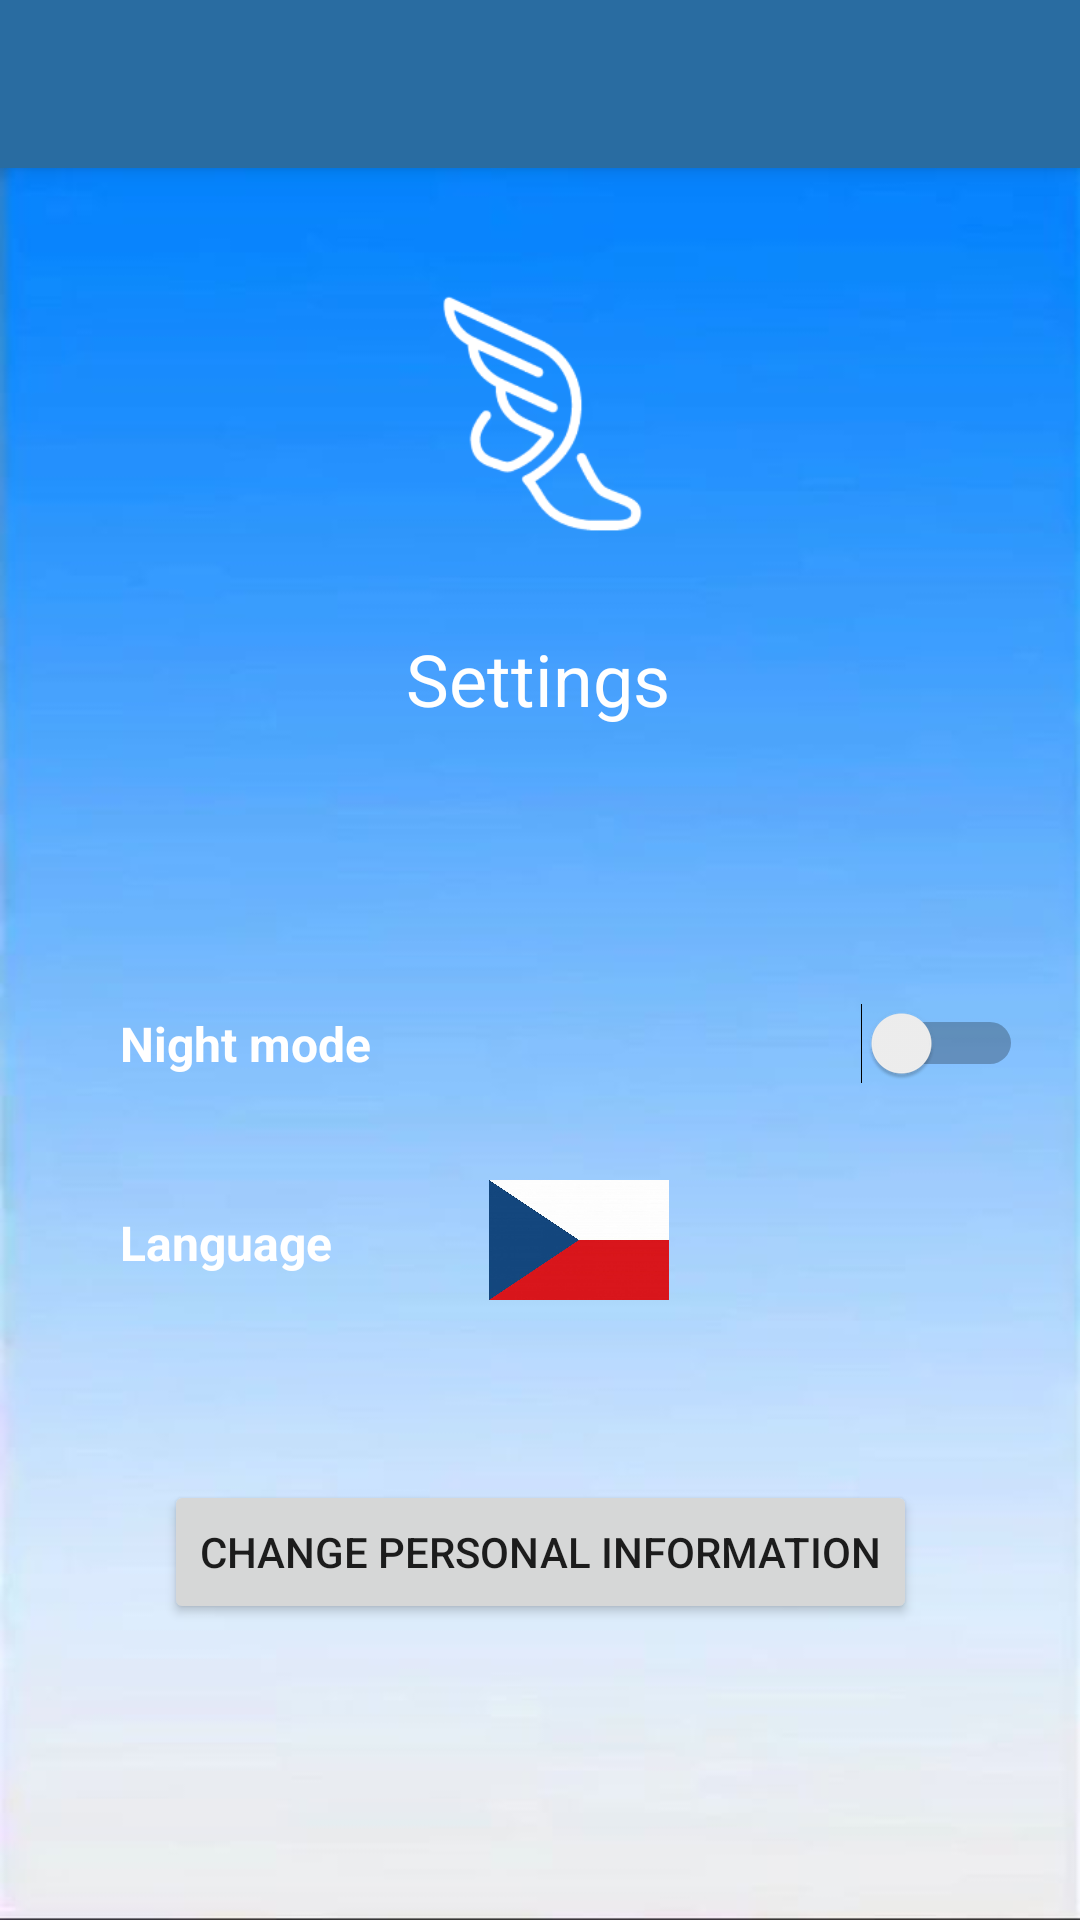

Where to tap for icons on this 1080px×1920px app screen, as (x=x, y=y):
flag cz: (x=579, y=1240)
